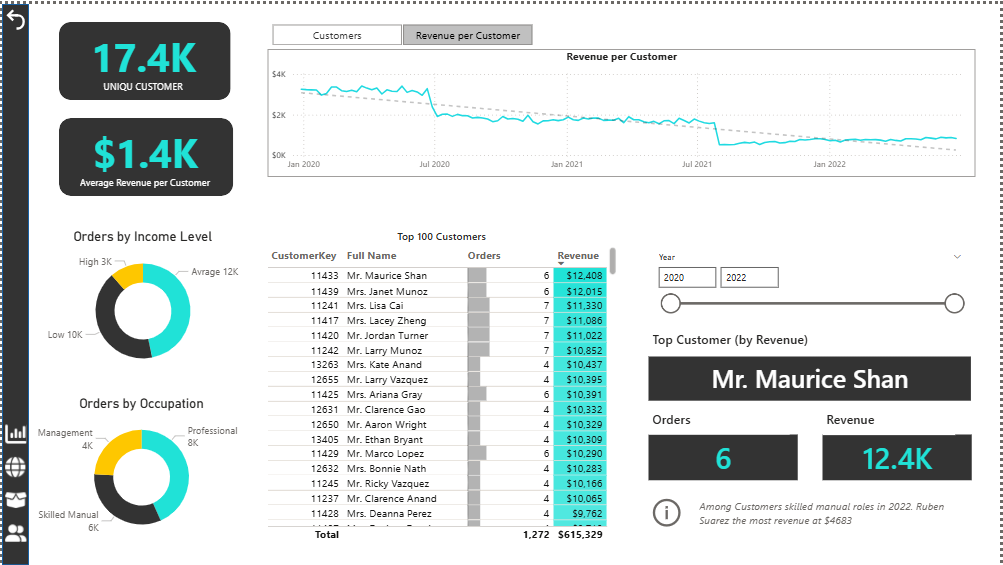

What the dashboard file says about the page in this screenshot:
{"tool":"powerbi","page":{"name":"Customer Detail","canvas":[1280,720],"ordinal":1},"visuals":[{"type":"lineChart","fields":{"Category":["Calendar Lookup.Date Hierarchy.Start of Year","Calendar Lookup.Date Hierarchy.Start of Month","Calendar Lookup.Date Hierarchy.Start of Week","Calendar Lookup.Date Hierarchy.Date"],"Y":["Measure Table.Average Revenue per Customer"]},"box":[340.4,57.4,908.5,163.8],"z":0},{"type":"shape","box":[73.3,23.3,220,100],"z":1000},{"type":"card","fields":{"Values":["Measure Table.Total Customers"]},"box":[66.7,23.3,226.7,100],"z":2000},{"type":"shape","box":[73.3,146.7,223.3,100],"z":3000},{"type":"card","fields":{"Values":["Measure Table.Average Revenue per Customer"]},"box":[68.9,146.7,227.6,100],"z":4000},{"type":"shape","title":"Left Nav Background","box":[0,0,34.5,720.7],"z":5000},{"type":"donutChart","title":"Orders by Income Level","fields":{"Category":["Customer Lookup.Income Lvele"],"Y":["Measure Table.Total Orders"]},"box":[38.5,288.7,283.9,190.1],"z":6000},{"type":"donutChart","title":"Orders by Occupation","fields":{"Category":["Customer Lookup.Occupation"],"Y":["Measure Table.Total Orders"]},"box":[36.4,502.8,284.2,189.5],"z":7000},{"type":"tableEx","title":"Top 100 Customers","fields":{"Values":["Customer Lookup.CustomerKey","Customer Lookup.Full Name","Measure Table.Total Orders","Measure Table.Total Revenue"]},"box":[335.6,288.9,457.8,404.4],"z":8000},{"type":"card","fields":{"Values":["Measure Table.Full Name (Customer Detail)"]},"box":[829.5,451.4,413.6,56.6],"z":9000},{"type":"card","fields":{"Values":["Measure Table.Total Orders (Customer Detail)"]},"box":[829.5,551.6,191.6,58.8],"z":10000},{"type":"card","fields":{"Values":["Measure Table.Total Revenue (Customer Detail)"]},"box":[1051.5,551.6,191.6,58.8],"z":11000},{"type":"textbox","box":[829.1,414.1,222.2,35.8],"z":12000},{"type":"textbox","box":[829.4,514.9,180.5,36.6],"z":13000},{"type":"textbox","box":[1051.5,514.6,169.8,37],"z":14000},{"type":"slicer","fields":{"Values":["Calendar Lookup.Date.Variation.Date Hierarchy.Year"]},"box":[828.9,313.3,413.3,93.3],"z":15000},{"type":"actionButton","box":[828.9,628.9,417.8,46.7],"z":16000},{"type":"actionButton","box":[0,0,35.6,40],"z":17000},{"type":"actionButton","box":[0,524.4,35.6,53.3],"z":18000},{"type":"actionButton","box":[0,608.9,35.6,53.3],"z":19000},{"type":"actionButton","box":[0,651.1,35.6,53.3],"z":20000},{"type":"actionButton","box":[0,566.7,34,52],"z":21000},{"type":"slicer","fields":{"Values":["Customer Metric Selection.Customer Metric Selection"]},"box":[321.3,19.1,383,38.3],"z":22500}]}

Visuals, with their boxes in screenshot pixels (x1, y1, x2, y2), scaled from the page's 1280x720 canvas onto the 1003x565 screenshot:
lineChart - Calendar Lookup.Date Hierarchy.Start of Year x Calendar Lookup.Date Hierarchy.Start of Month: select_region(267, 45, 979, 174)
shape: select_region(57, 18, 230, 97)
card - Measure Table.Total Customers: select_region(52, 18, 230, 97)
shape: select_region(57, 115, 232, 194)
card - Measure Table.Average Revenue per Customer: select_region(54, 115, 232, 194)
"Left Nav Background" shape: select_region(0, 0, 27, 564)
"Orders by Income Level" donutChart: select_region(30, 227, 253, 376)
"Orders by Occupation" donutChart: select_region(29, 395, 251, 543)
"Top 100 Customers" tableEx: select_region(263, 227, 622, 544)
card - Measure Table.Full Name (Customer Detail): select_region(650, 354, 974, 399)
card - Measure Table.Total Orders (Customer Detail): select_region(650, 433, 800, 479)
card - Measure Table.Total Revenue (Customer Detail): select_region(824, 433, 974, 479)
textbox: select_region(650, 325, 824, 353)
textbox: select_region(650, 404, 791, 433)
textbox: select_region(824, 404, 957, 433)
slicer - Calendar Lookup.Date.Variation.Date Hierarchy.Year: select_region(650, 246, 973, 319)
actionButton: select_region(650, 494, 977, 530)
actionButton: select_region(0, 0, 28, 31)
actionButton: select_region(0, 412, 28, 453)
actionButton: select_region(0, 478, 28, 520)
actionButton: select_region(0, 511, 28, 553)
actionButton: select_region(0, 445, 27, 486)
slicer - Customer Metric Selection.Customer Metric Selection: select_region(252, 15, 552, 45)
